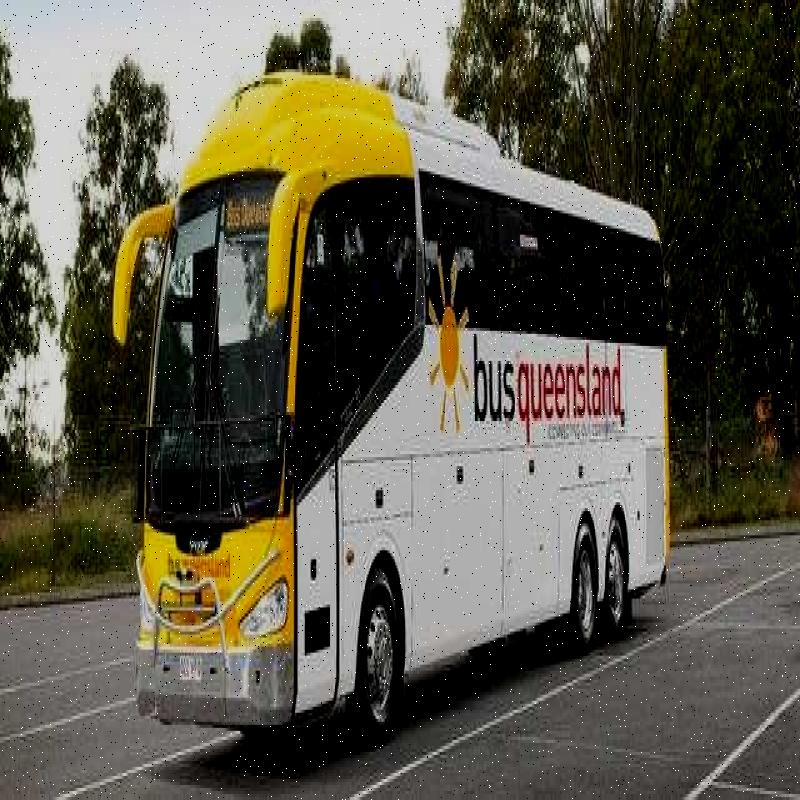bus: (102, 40, 696, 761)
